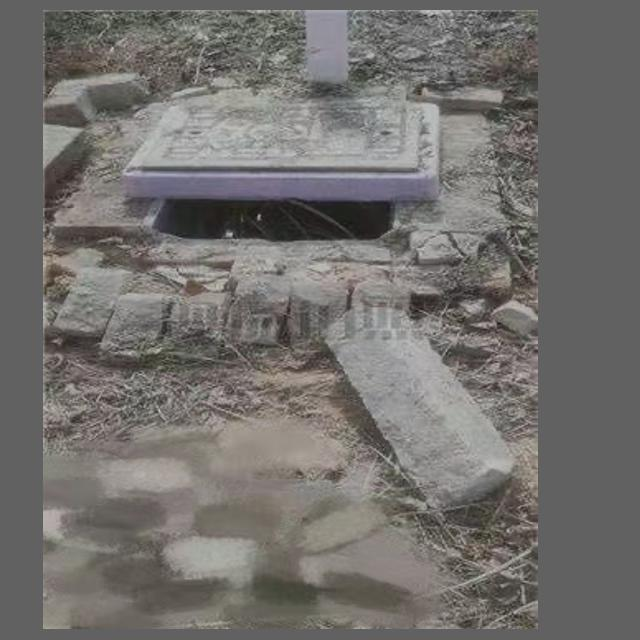uncovered: (107, 62, 465, 242)
